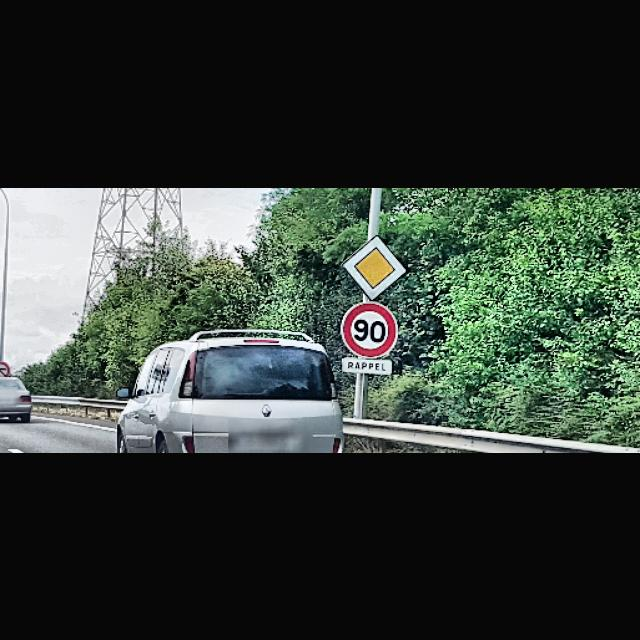speed_90: (340, 303, 398, 359)
